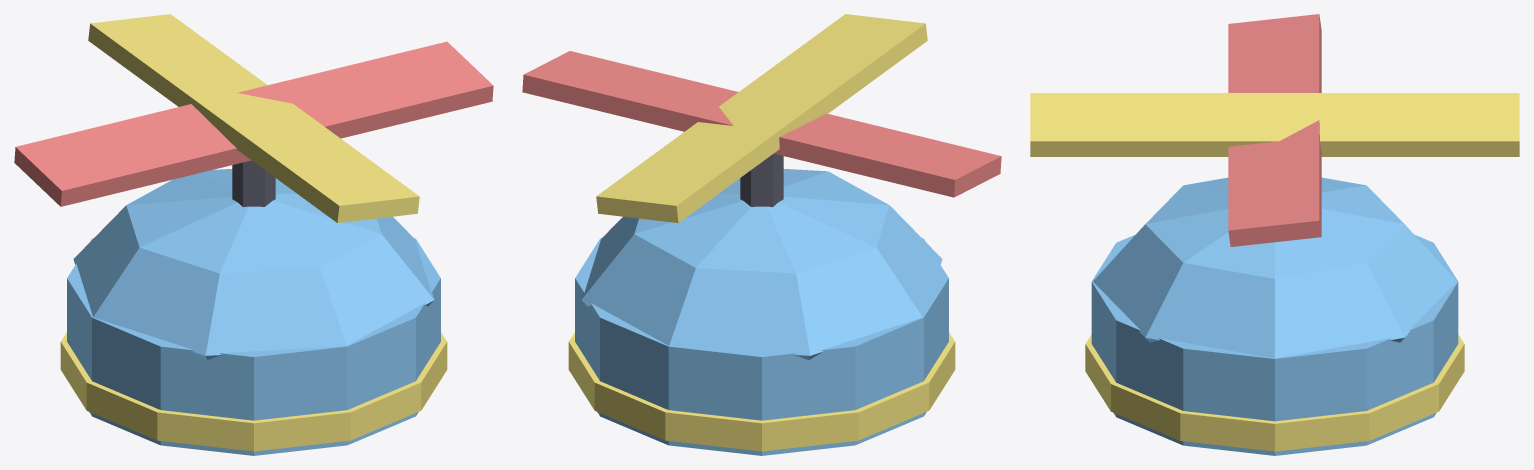
Rendered from CF_HatPropeller.fbx.
3 renders of one model, left to right at view 1: azimuth 30°, elevation 25°; view 2: azimuth 150°, elevation 25°; view 3: azimuth 270°, elevation 25°, orthographic.
Visible parts, largest first — view 1: CF_HatPropeller_Cap, CF_HatPropeller_Blade, CF_HatPropeller_BladeB, CF_HatPropeller_Stripe, CF_HatPropeller_Pin; view 2: CF_HatPropeller_Cap, CF_HatPropeller_BladeB, CF_HatPropeller_Blade, CF_HatPropeller_Stripe, CF_HatPropeller_Pin; view 3: CF_HatPropeller_Cap, CF_HatPropeller_BladeB, CF_HatPropeller_Blade, CF_HatPropeller_Stripe.
Part boxes in pixels (left/top/right/bottom): CF_HatPropeller_Cap: left=67, top=169, right=440, bottom=455; CF_HatPropeller_Blade: left=14, top=41, right=493, bottom=206; CF_HatPropeller_BladeB: left=88, top=14, right=419, bottom=223; CF_HatPropeller_Stripe: left=60, top=332, right=447, bottom=451; CF_HatPropeller_Pin: left=232, top=160, right=275, bottom=207; CF_HatPropeller_Cap: left=575, top=169, right=948, bottom=455; CF_HatPropeller_BladeB: left=596, top=14, right=927, bottom=223; CF_HatPropeller_Blade: left=522, top=51, right=1001, bottom=197; CF_HatPropeller_Stripe: left=568, top=332, right=955, bottom=451; CF_HatPropeller_Pin: left=740, top=153, right=783, bottom=207; CF_HatPropeller_Cap: left=1091, top=177, right=1458, bottom=455; CF_HatPropeller_BladeB: left=1030, top=93, right=1519, bottom=156; CF_HatPropeller_Blade: left=1228, top=14, right=1321, bottom=246; CF_HatPropeller_Stripe: left=1085, top=334, right=1464, bottom=451.
Bounding box in the file's own units: 1.6 × 0.9627 × 1.6.
